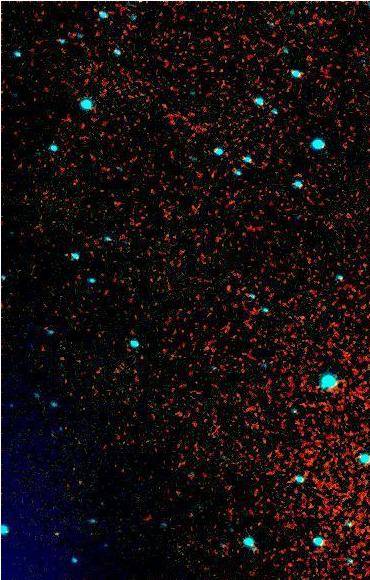star: (43, 519, 73, 549)
